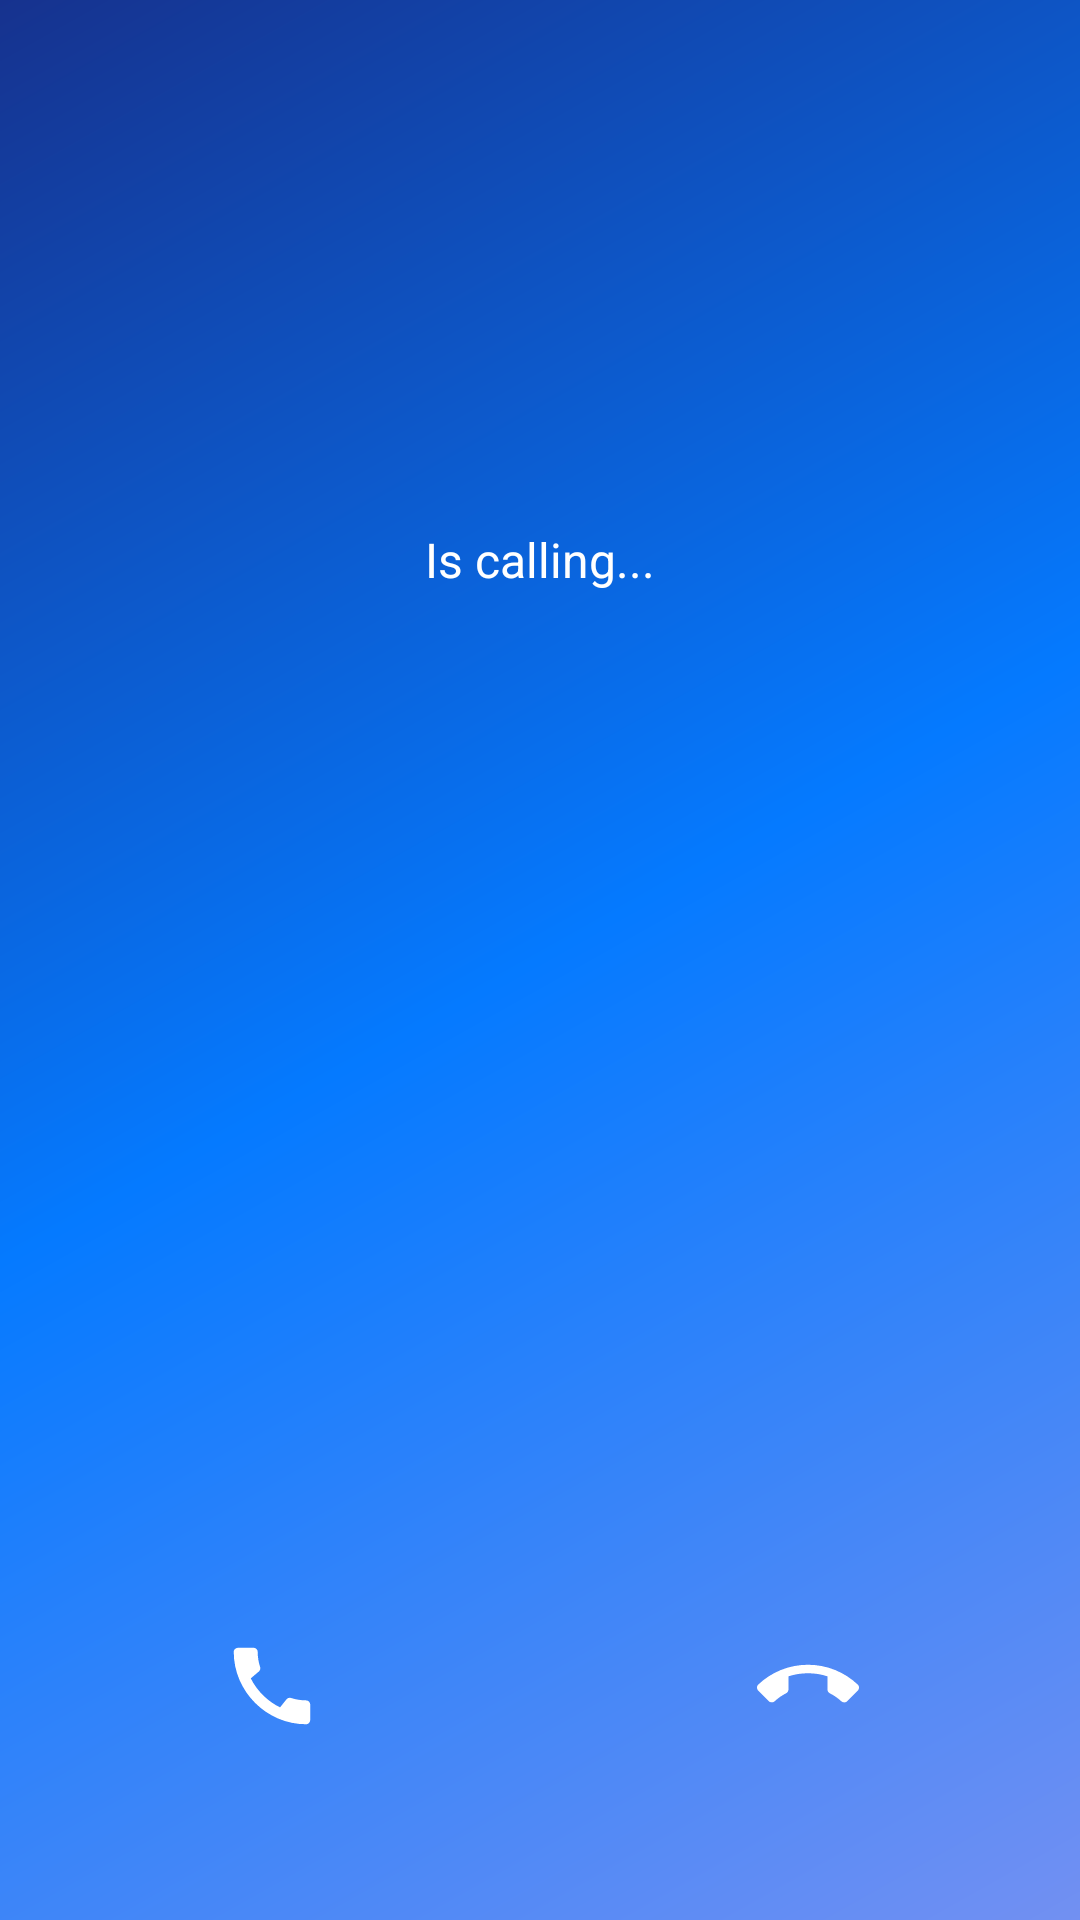

Named icons in this screenshot (1080px x 1920px) and their bounding boxes, (x1, y1, x2, y2):
call: (233, 1647, 311, 1725)
call end: (757, 1664, 859, 1703)
